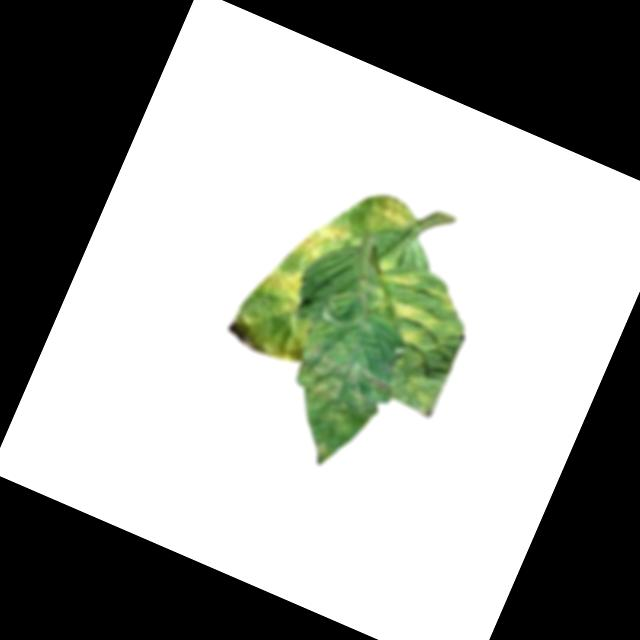Leaf_Mold: (271, 342, 401, 479), (366, 260, 464, 355), (222, 296, 320, 372), (286, 208, 351, 278), (251, 259, 317, 322), (358, 187, 418, 247)
